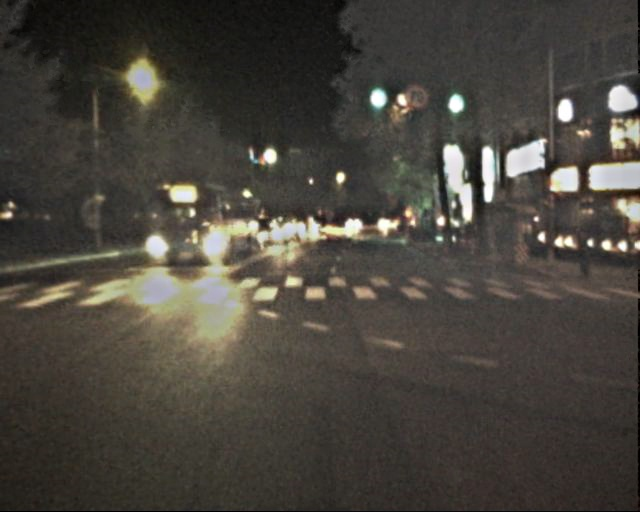person: (569, 229, 593, 277), (492, 217, 512, 259)
